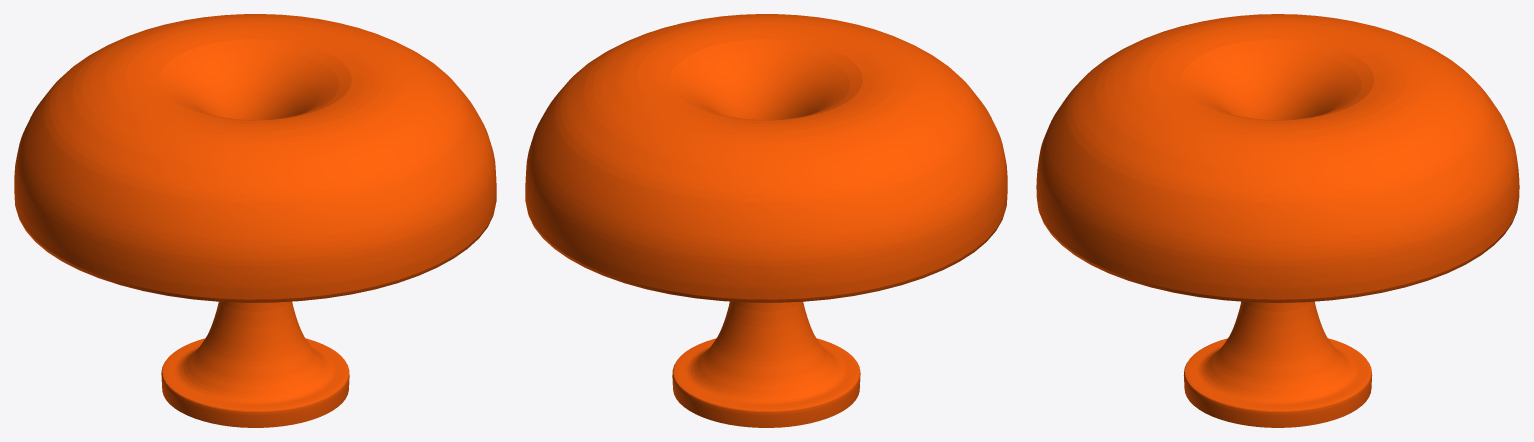
File: mushroomstand_gonggan_lamp.glb
The picture shows the model from 3 angles, left to right: view 1: azimuth 30°, elevation 25°; view 2: azimuth 150°, elevation 25°; view 3: azimuth 270°, elevation 25°; orthographic projection.
Parts seen in each view (by area): view 1: mushroomstand_gonggan_lamp; view 2: mushroomstand_gonggan_lamp; view 3: mushroomstand_gonggan_lamp.
Part boxes in pixels (x1,y1,x2,y2): mushroomstand_gonggan_lamp: [14, 14, 496, 427]; mushroomstand_gonggan_lamp: [525, 14, 1007, 427]; mushroomstand_gonggan_lamp: [1036, 14, 1519, 427].
Bounding box in the file's own units: 0.3216 × 0.229 × 0.3216.
Materials: 1 (1 with a texture image).
